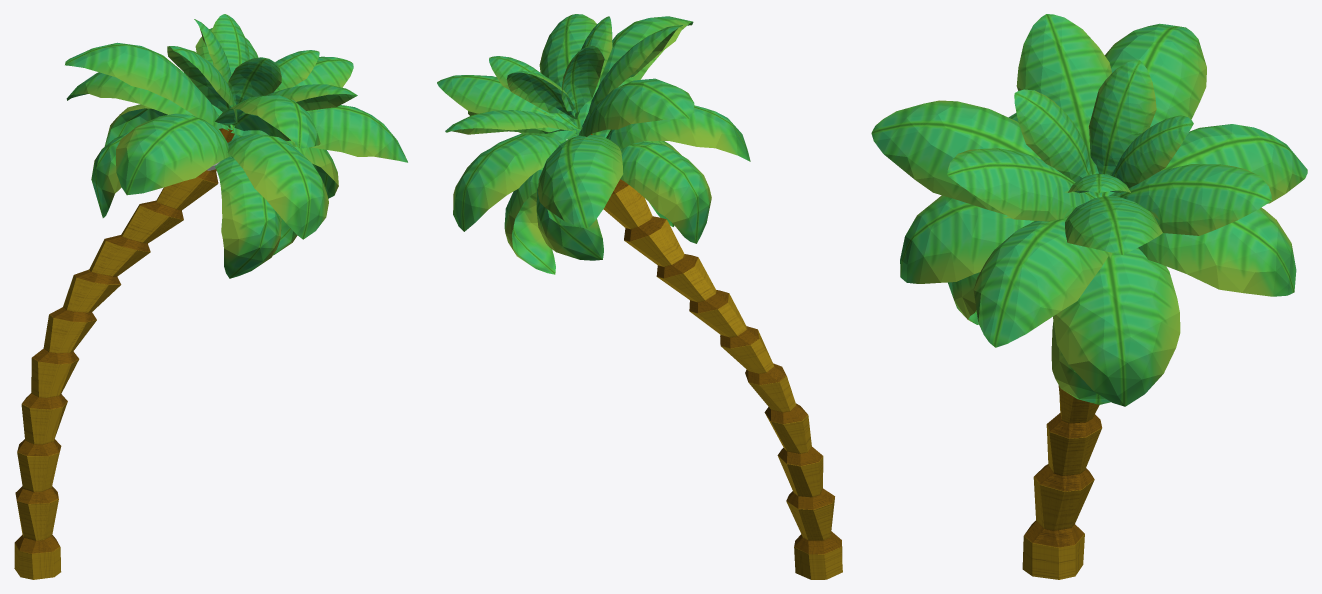
The model's file is BigLeavesPalm.FBX.
3 views of the same model, side by side, from view 1: azimuth 30°, elevation 25°; view 2: azimuth 150°, elevation 25°; view 3: azimuth 270°, elevation 25° (orthographic). The views are drawn at different scales.
Parts seen in each view (by area): view 1: BigLeavesPalm; view 2: BigLeavesPalm; view 3: BigLeavesPalm.
Part boxes in pixels (x1,y1,x2,y2): BigLeavesPalm: (14, 14, 407, 579); BigLeavesPalm: (437, 14, 842, 579); BigLeavesPalm: (871, 14, 1307, 579).
Bounding box in the file's own units: 11.27 × 8.82 × 14.25.
